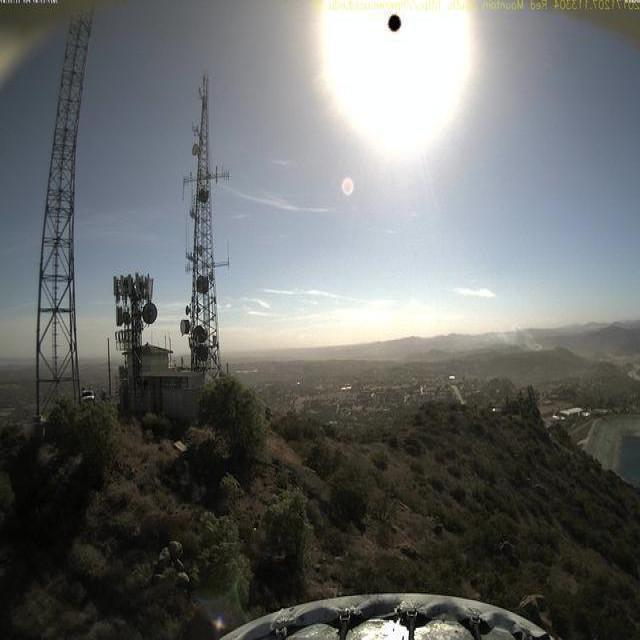Smoke: (483, 308, 554, 353)
